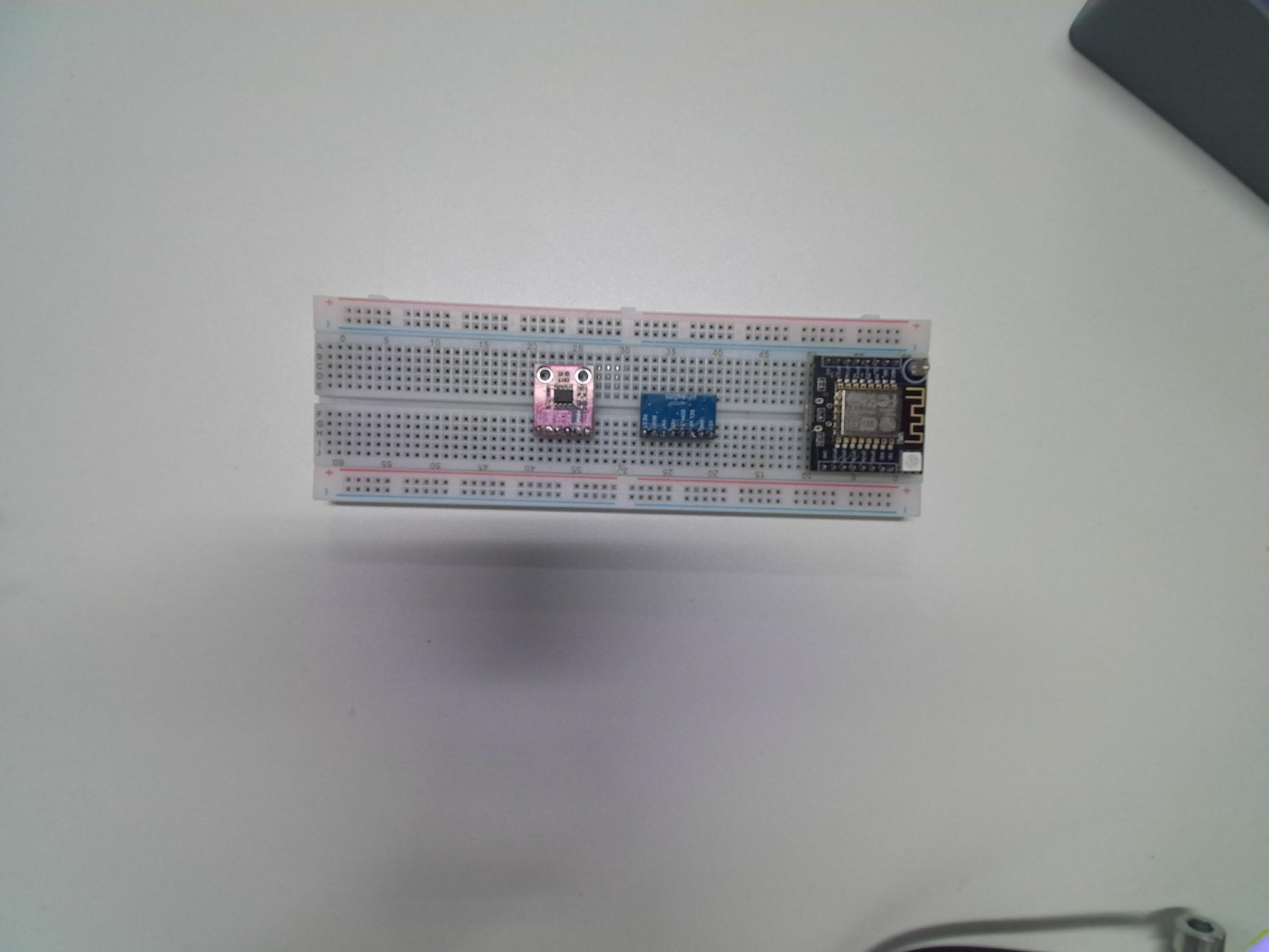base: (309, 296, 931, 523)
blue-board: (639, 390, 719, 440)
esp: (805, 351, 929, 476)
purple-board: (532, 362, 598, 443)
